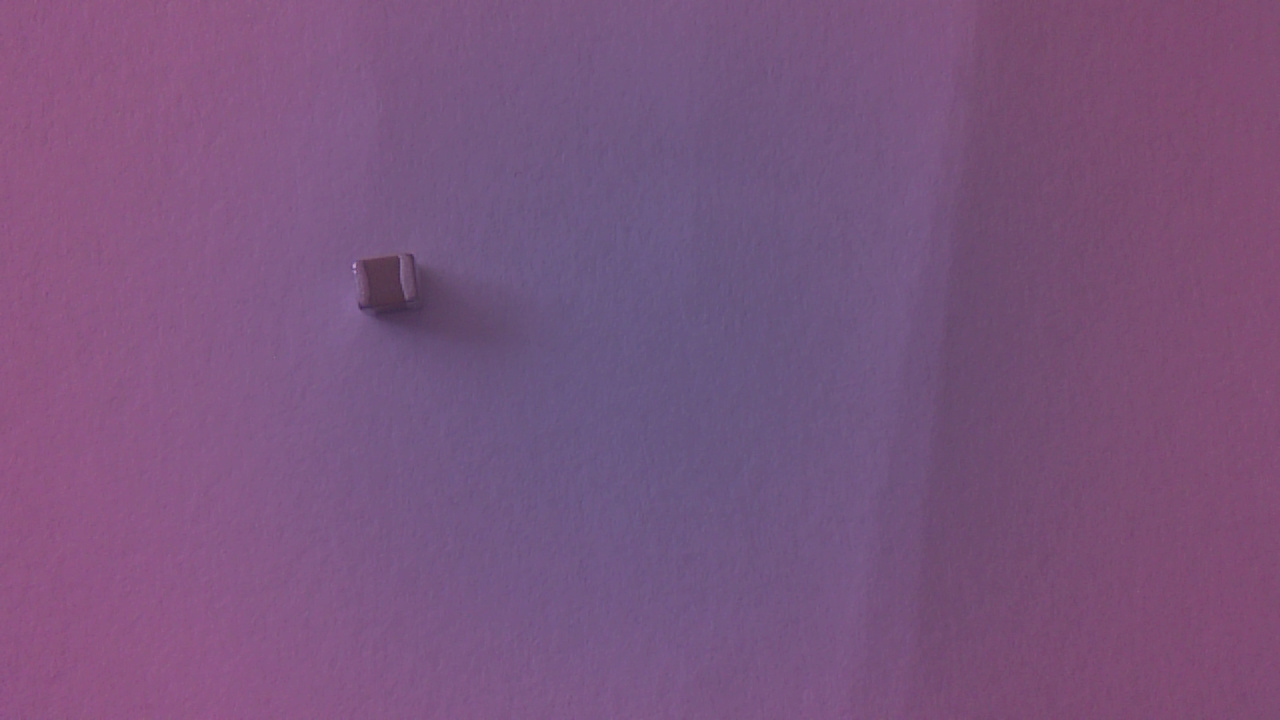Condensator: (349, 254, 430, 328)
